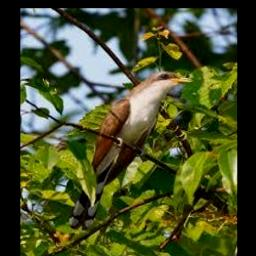Cuckoo: (69, 71, 192, 230)
